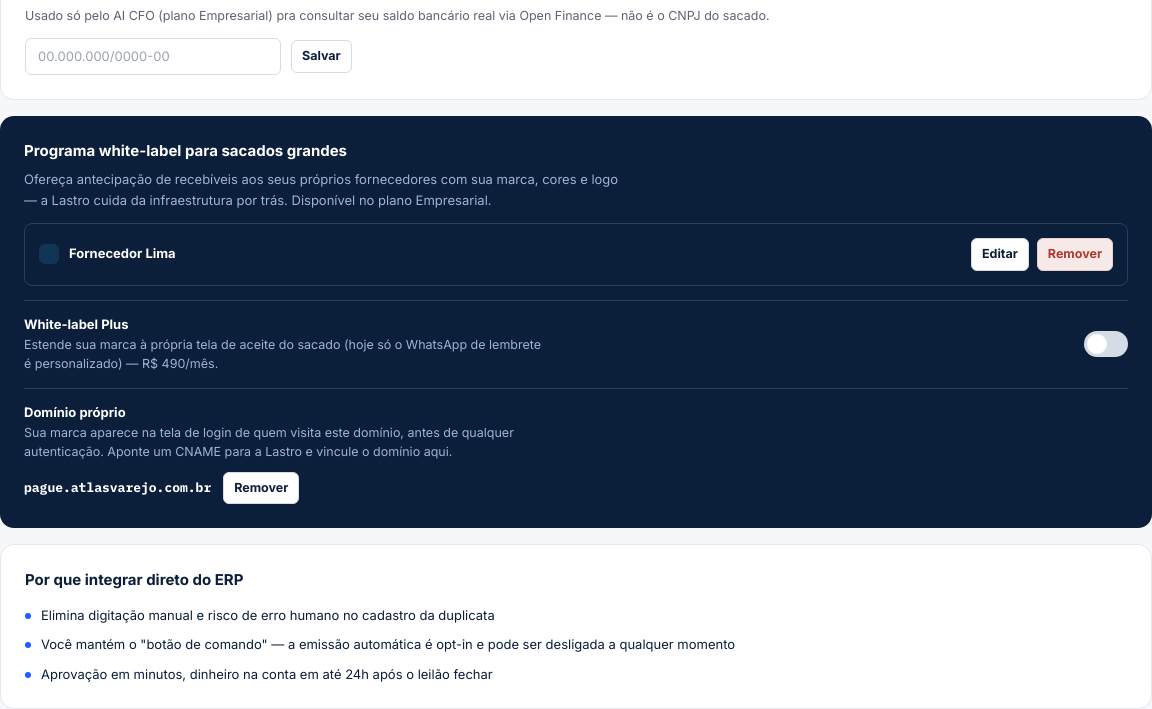
Test case: ErpPage — domínio próprio do white-label › com domínio vinculado, mostra qual é e troca o formulário por remover
(page scrolled)
Expected: the text "pague.atlasvarejo.com.br" is shown, [24,478,211,498]
Expected: the button "Vincular domínio" is not shown
Click the button with aria-label "Remover domínio próprio": (261, 488) [223,472,299,504]
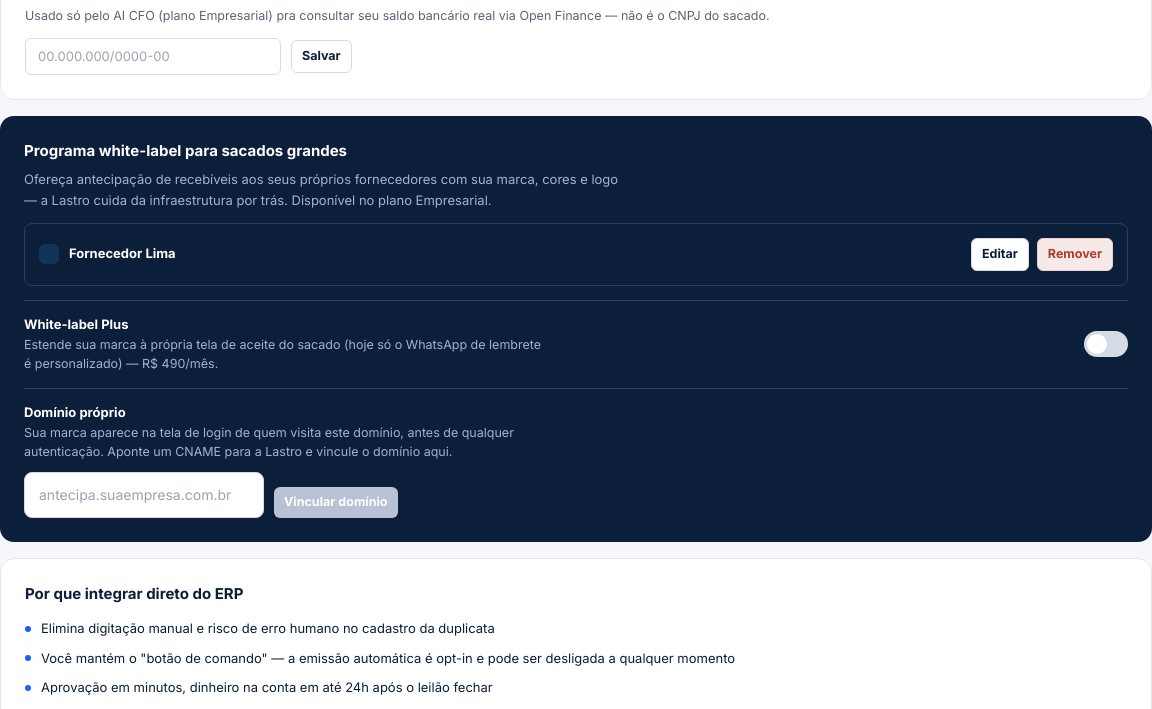
Expected: the button "Vincular domínio" is shown, [274,487,398,518]
